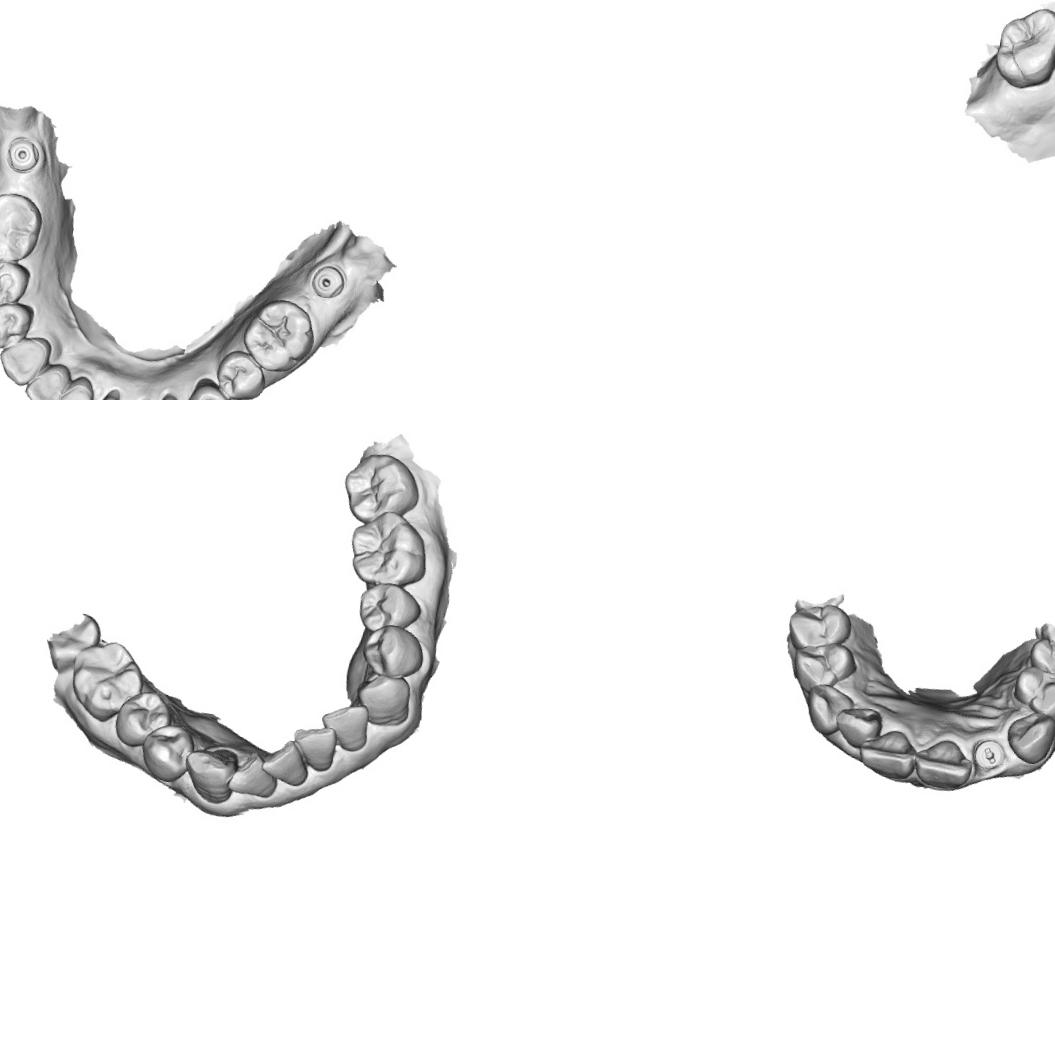canine: (178, 736, 244, 808), (350, 667, 416, 732), (801, 680, 857, 740), (1002, 707, 1055, 767), (0, 331, 53, 390)
implant: (3, 134, 43, 176), (308, 262, 348, 303)
implant_minus: (970, 736, 1008, 774)
incisor: (911, 734, 976, 792), (855, 724, 920, 782), (315, 696, 374, 756), (224, 747, 282, 803), (256, 734, 313, 790), (287, 718, 342, 776), (830, 702, 886, 753), (21, 358, 73, 400), (50, 371, 98, 400), (78, 384, 124, 400)
molar: (342, 504, 436, 596), (62, 633, 150, 729), (335, 444, 427, 532), (237, 294, 321, 380), (989, 0, 1055, 95), (0, 185, 47, 266)
premolar: (356, 618, 429, 684), (110, 684, 176, 754), (352, 577, 426, 639), (789, 636, 859, 701), (135, 717, 198, 787), (784, 598, 855, 658), (212, 346, 271, 400), (1009, 662, 1055, 726), (0, 297, 35, 353), (1024, 633, 1055, 689), (0, 256, 32, 309), (182, 376, 238, 400)
